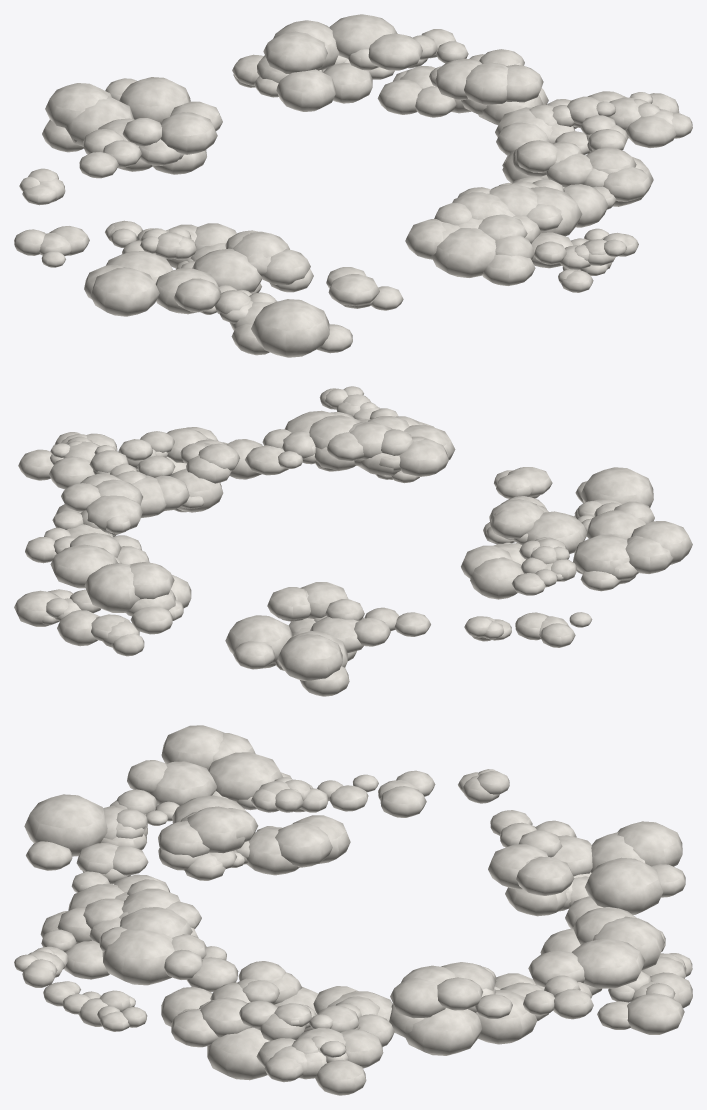
File: lb_clouds.glb
3 renders of one model, top to bottom at view 1: azimuth 30°, elevation 25°; view 2: azimuth 150°, elevation 25°; view 3: azimuth 270°, elevation 25°, orthographic. The views are drawn at different scales.
Visible parts, largest first — view 1: lb_clouds; view 2: lb_clouds; view 3: lb_clouds.
Boxes of the visible parts, left/top/right/bottom form: lb_clouds: left=14, top=14, right=692, bottom=357; lb_clouds: left=14, top=386, right=692, bottom=696; lb_clouds: left=14, top=725, right=692, bottom=1095.
Bounding box in the file's own units: 116 × 14.3 × 98.32.
Materials: 1 (1 with a texture image).
